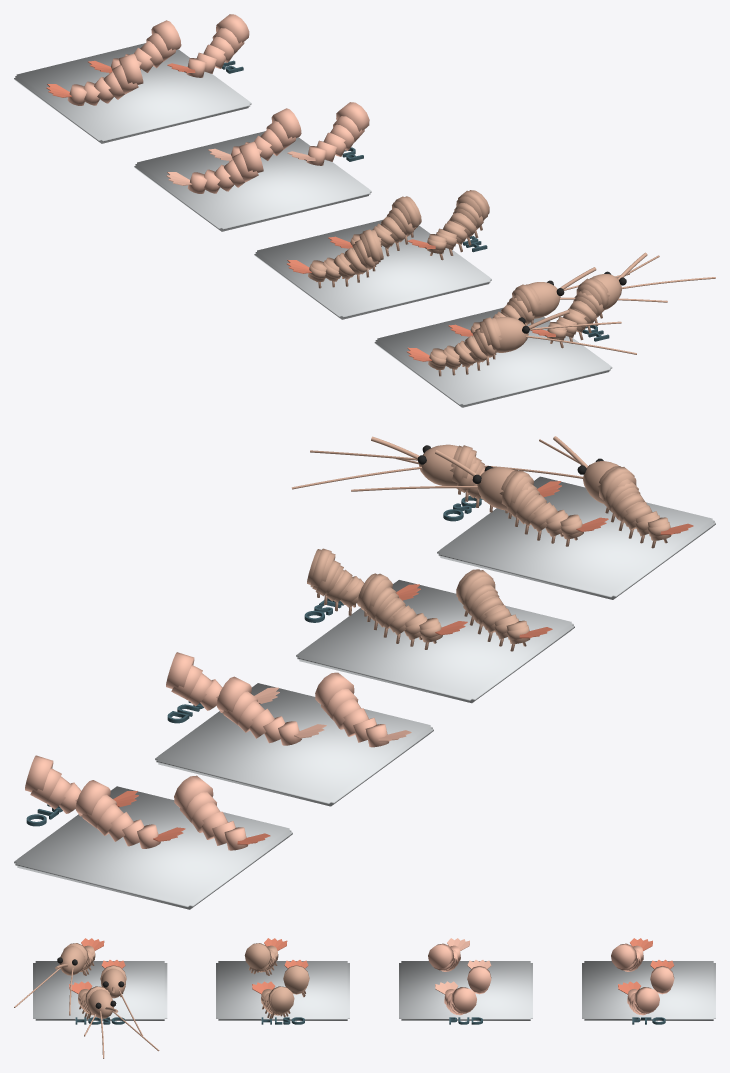
File: shrimp_product_forms.glb
The picture shows the model from 3 angles, top to bottom: view 1: azimuth 30°, elevation 25°; view 2: azimuth 150°, elevation 25°; view 3: azimuth 270°, elevation 25°; orthographic projection. The views are drawn at different scales.
Parts seen in each view (by area): view 1: Tray_PUD, Tray_PTO, Tray_HLSO, Tray_HOSO, HOSO_0_Carapace, HOSO_1_Carapace; view 2: Tray_PUD, Tray_PTO, Tray_HLSO, Tray_HOSO, HOSO_2_Carapace, HOSO_1_Carapace, HOSO_0_Carapace, PUD_0_Seg0, PTO_0_Seg0, PUD_1_Seg0, PTO_1_Seg0; view 3: Tray_PUD, Tray_PTO, Tray_HLSO, Tray_HOSO, HOSO_0_Carapace, HOSO_2_Carapace, PTO_0_Seg0, PUD_0_Seg0, PTO_2_Seg0, PUD_2_Seg0, PTO_1_Seg0, PUD_1_Seg0 (+6 smaller).
Boxes of the visible parts, bbox=[...] form: Tray_PUD: bbox=[134, 131, 371, 231]; Tray_PTO: bbox=[14, 43, 251, 143]; Tray_HLSO: bbox=[254, 220, 491, 319]; Tray_HOSO: bbox=[374, 307, 612, 407]; HOSO_0_Carapace: bbox=[478, 317, 528, 352]; HOSO_1_Carapace: bbox=[514, 282, 560, 318]; Tray_PUD: bbox=[155, 683, 433, 806]; Tray_PTO: bbox=[14, 786, 292, 909]; Tray_HLSO: bbox=[296, 580, 574, 703]; Tray_HOSO: bbox=[437, 476, 715, 599]; HOSO_2_Carapace: bbox=[419, 444, 477, 485]; HOSO_1_Carapace: bbox=[476, 467, 531, 510]; HOSO_0_Carapace: bbox=[583, 461, 630, 503]; PUD_0_Seg0: bbox=[315, 672, 354, 706]; PTO_0_Seg0: bbox=[174, 775, 213, 810]; PUD_1_Seg0: bbox=[217, 676, 251, 712]; PTO_1_Seg0: bbox=[75, 780, 110, 815]; Tray_PUD: bbox=[399, 961, 532, 1020]; Tray_PTO: bbox=[582, 961, 715, 1020]; Tray_HLSO: bbox=[216, 961, 349, 1020]; Tray_HOSO: bbox=[33, 961, 167, 1020]; HOSO_0_Carapace: bbox=[59, 946, 85, 975]; HOSO_2_Carapace: bbox=[88, 989, 113, 1018]; PTO_0_Seg0: bbox=[611, 943, 636, 968]; PUD_0_Seg0: bbox=[428, 943, 453, 968]; PTO_2_Seg0: bbox=[634, 987, 659, 1012]; PUD_2_Seg0: bbox=[451, 987, 476, 1012]; PTO_1_Seg0: bbox=[650, 966, 674, 991]; PUD_1_Seg0: bbox=[467, 966, 491, 991].
Size of the model in its own units: 2.27 by 0.4015 by 5.76.
